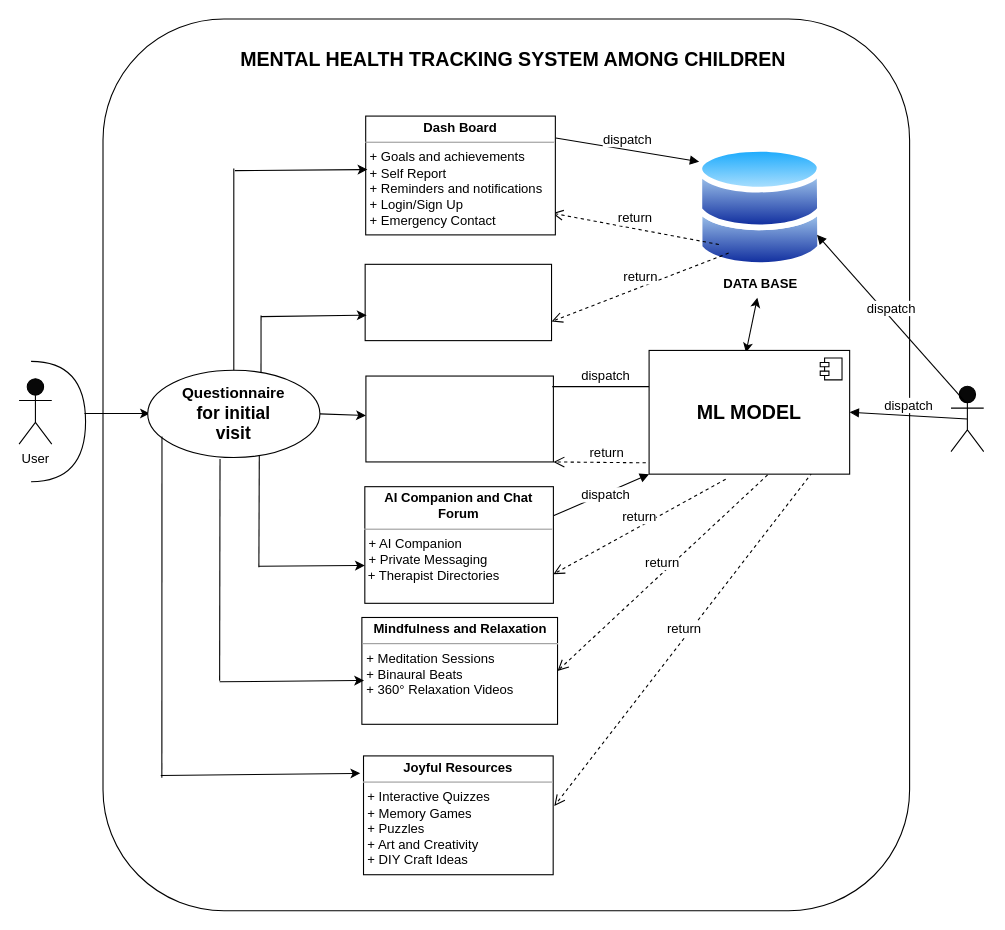
The diagram is 1005 pixels wide and 930 high, and some of its shapes have lost their labels. The box of each missing label's shape, as (x1, y1, x2, y2) in pixels:
Admin: (950, 385, 984, 452)
Emotional Assessment + Facial Recognition + GAD-7 Test + BDI Test: (365, 375, 553, 462)
Learning Resources + Articles + Videos: (364, 263, 552, 341)
